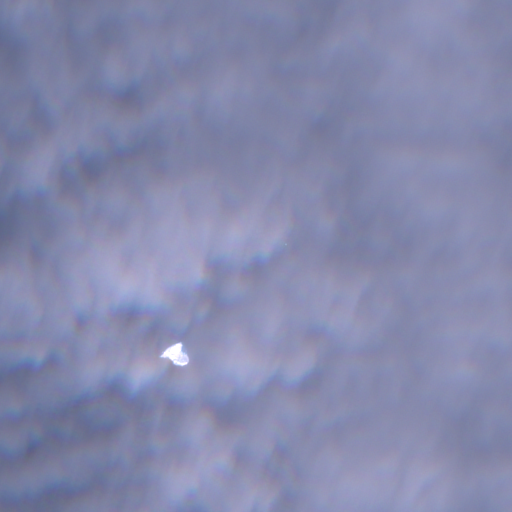Iceberg: (160, 343, 188, 366)
